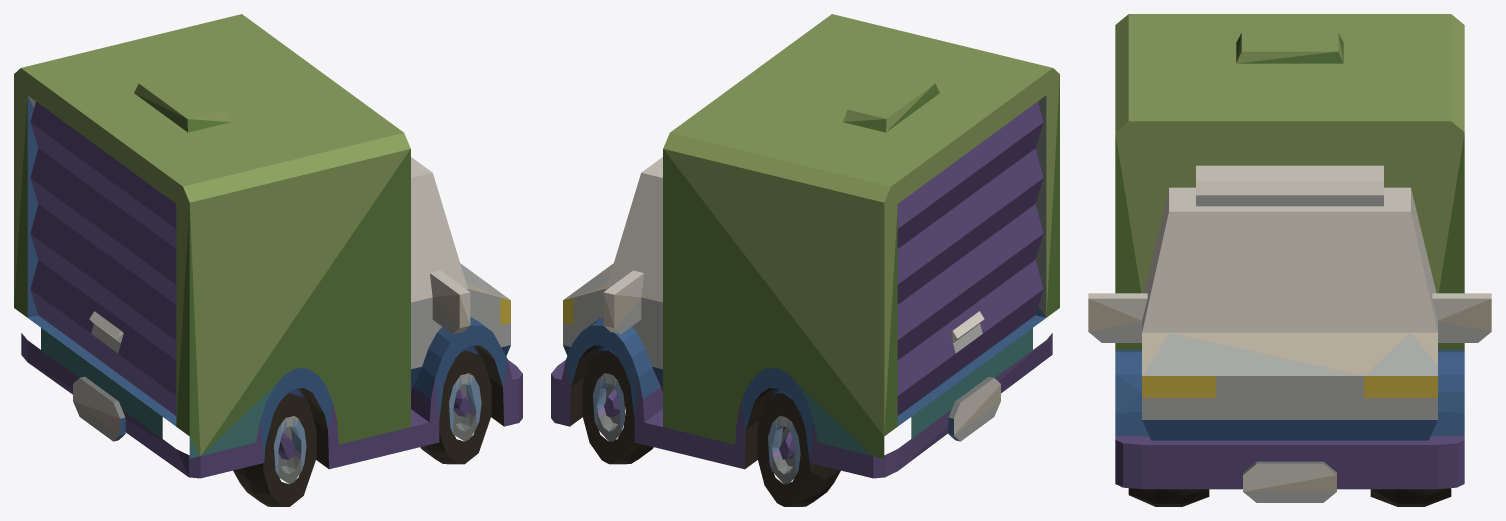
File: delivery.glb
3 views of the same model, side by side, from view 1: azimuth 30°, elevation 25°; view 2: azimuth 150°, elevation 25°; view 3: azimuth 270°, elevation 25° (orthographic).
Bounding box in the file's own units: 1 × 1 × 1.
